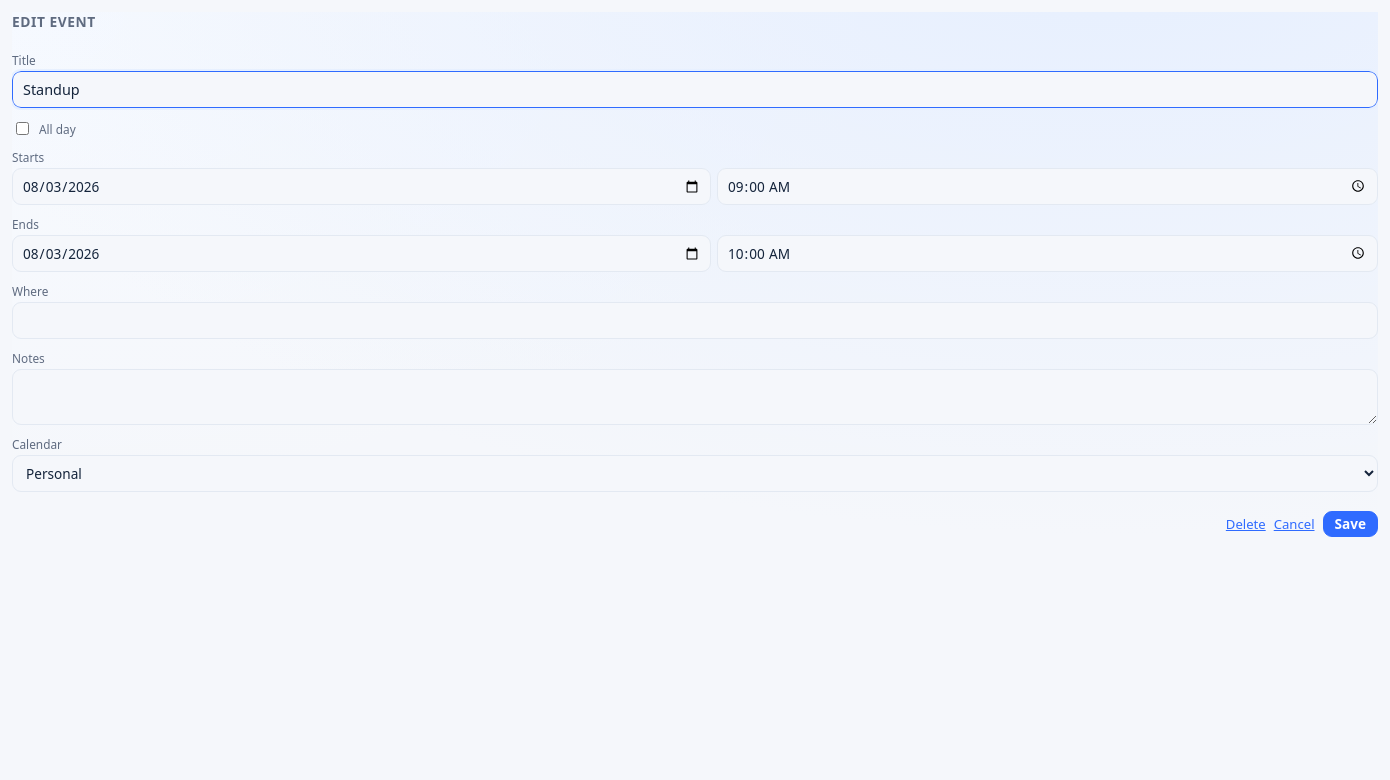
Test: EventForm deleting › asks for confirmation on the first click
Click the button "Delete".
click(1246, 524)  # box top-left (1226, 515), bottom-right (1266, 533)
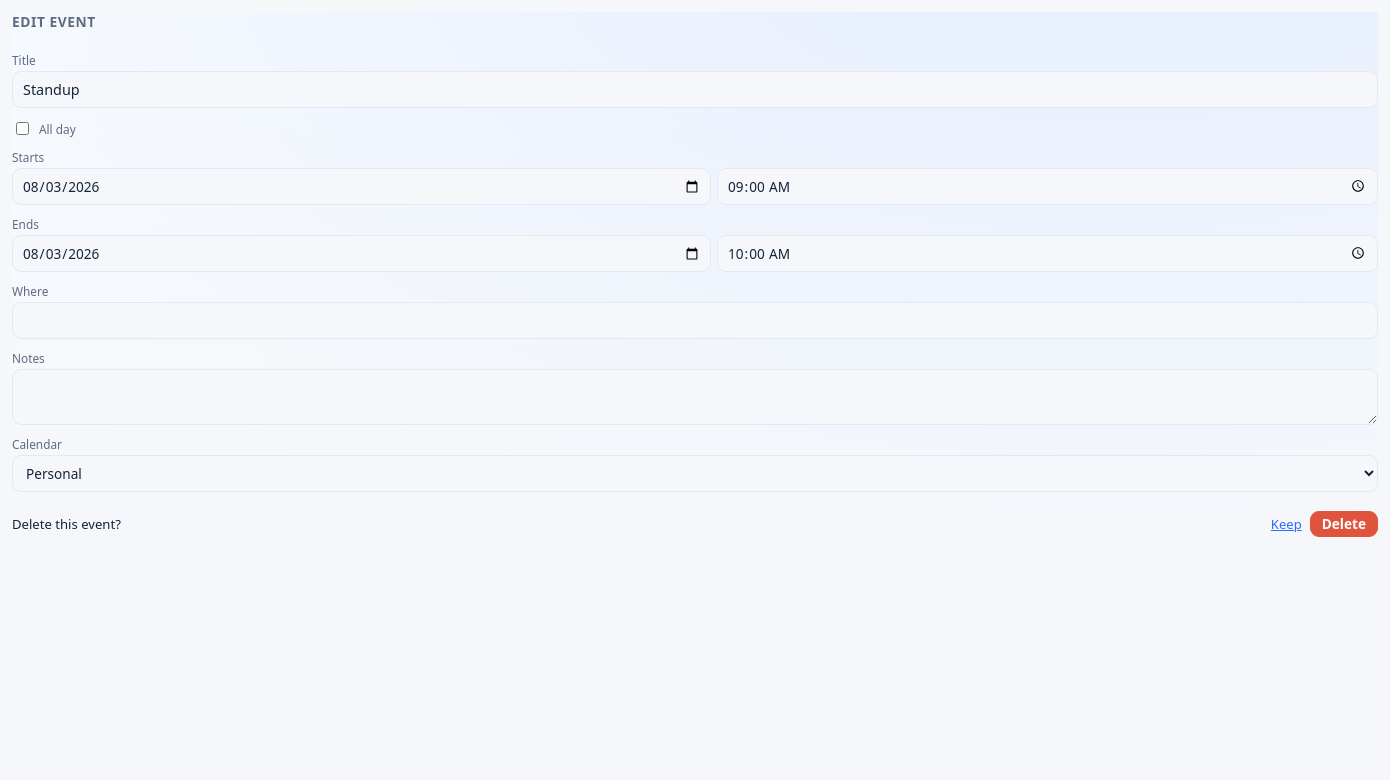
Expected: the text "Delete this event?" is shown, top-left (12, 515), bottom-right (121, 533)
